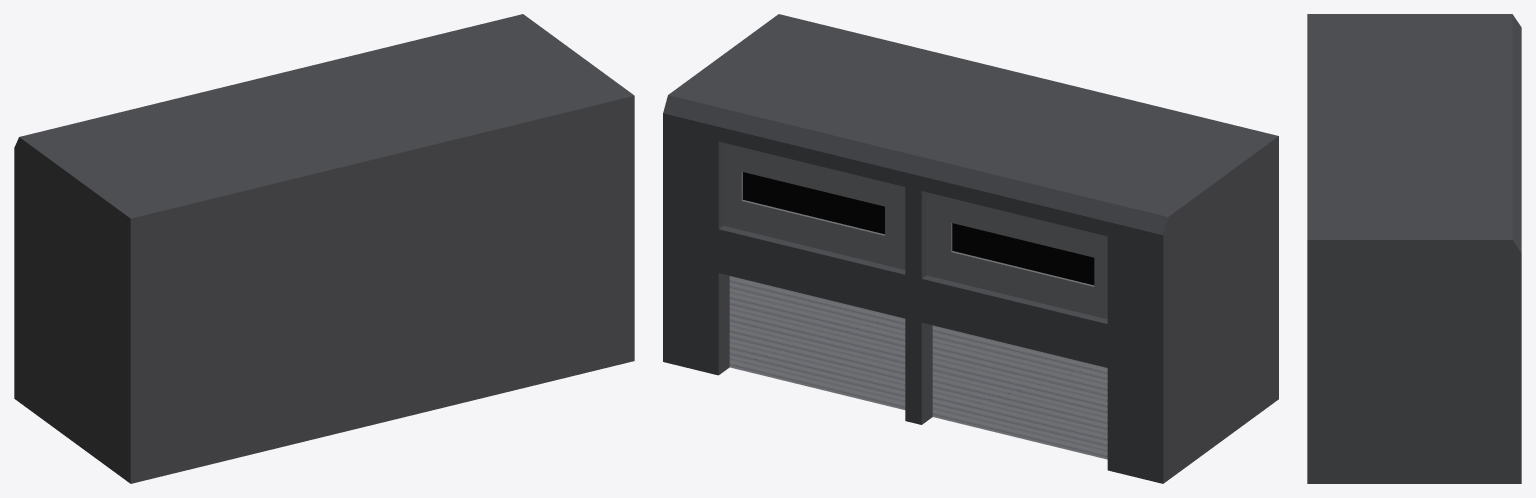
The model's file is building1.fbx.
The picture shows the model from 3 angles, left to right: view 1: azimuth 30°, elevation 25°; view 2: azimuth 150°, elevation 25°; view 3: azimuth 270°, elevation 25°; orthographic projection. The views are drawn at different scales.
Visible parts, largest first — view 1: building1; view 2: building1; view 3: building1.
Part boxes in pixels (x1,y1,x2,y2): building1: (14,14,634,483); building1: (663,14,1278,483); building1: (1307,14,1521,483).
Bounding box in the file's own units: 23.86 × 12 × 9.56.
4 materials, 1 textured.
